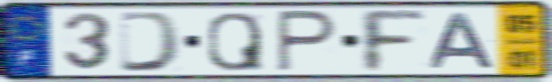3: (59, 11, 113, 72)
A: (428, 11, 499, 70)
D: (117, 10, 186, 74)
F: (355, 7, 429, 74)
P: (274, 8, 339, 75)
Q: (206, 10, 267, 73)
